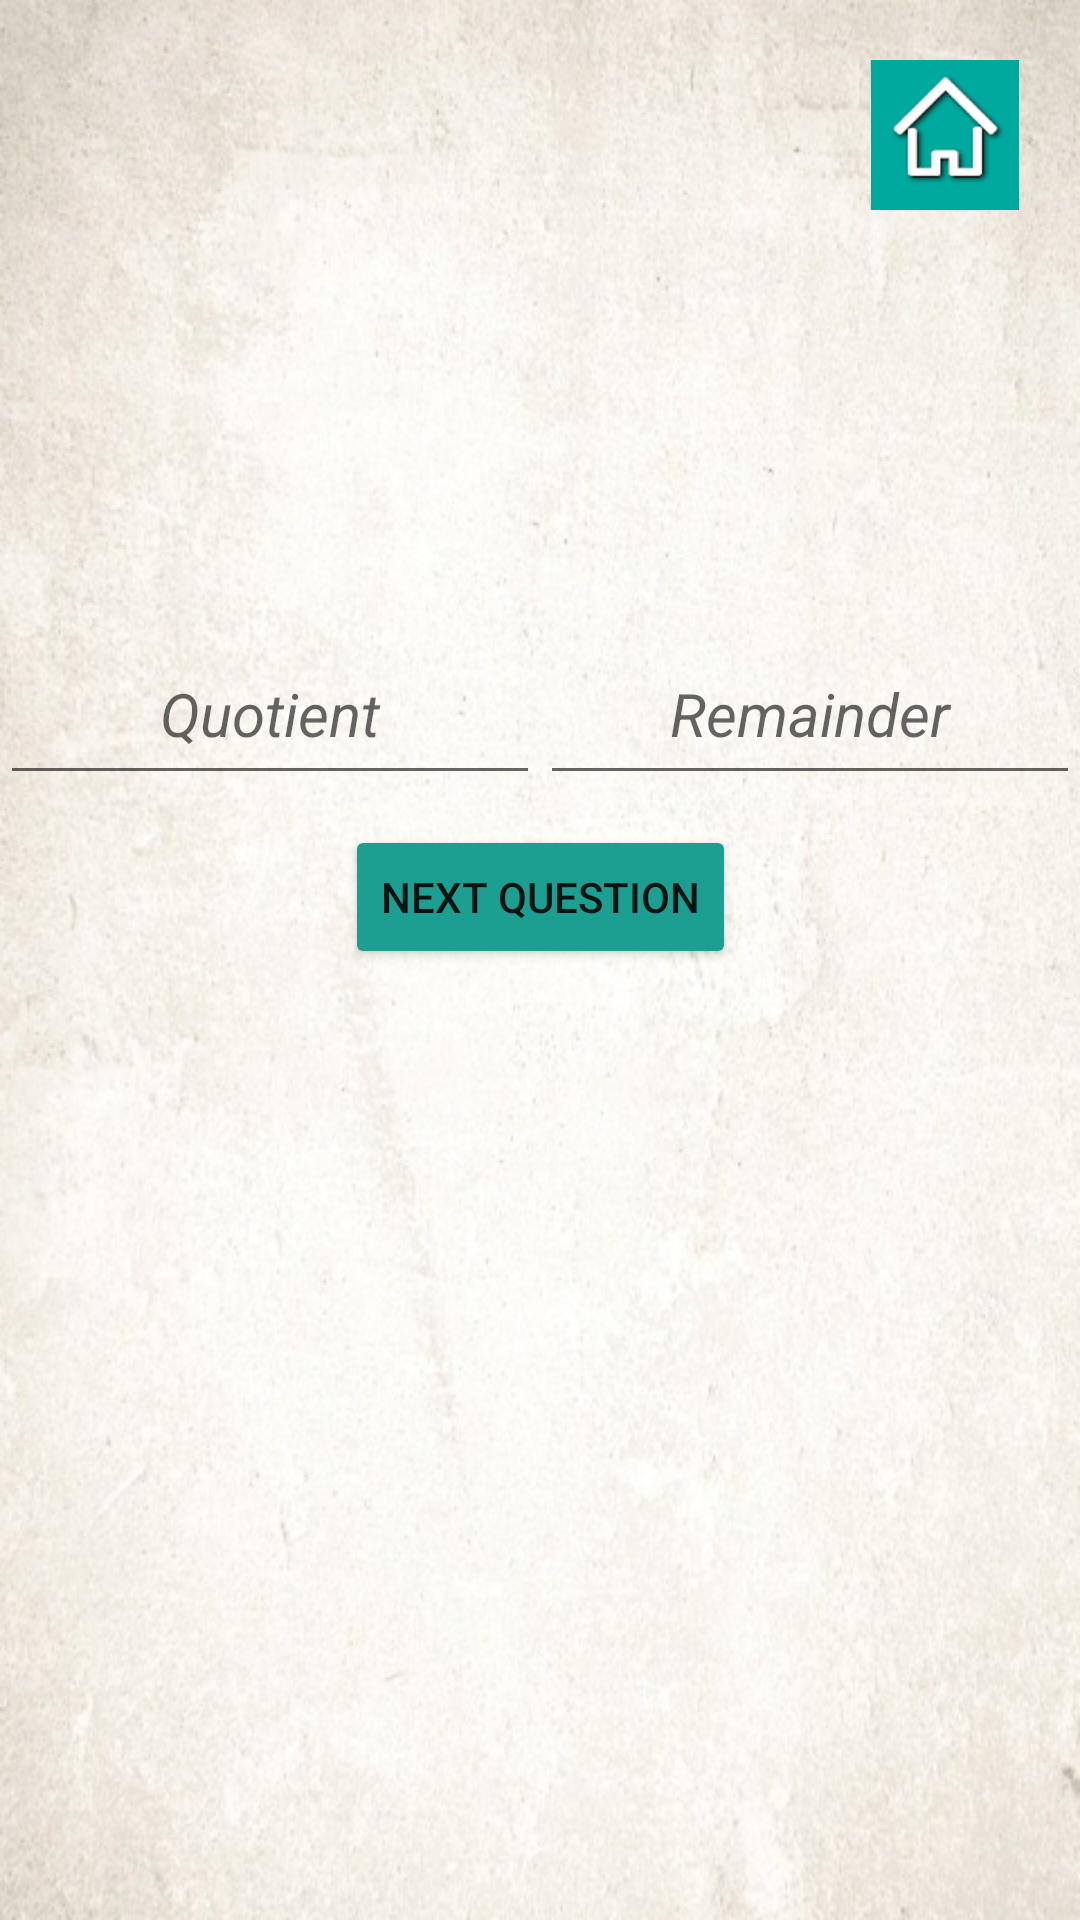

Where icons sit on this 1080×1920 app screen, as (x1, y1, x2, y2):
home: (870, 60, 1020, 210)
